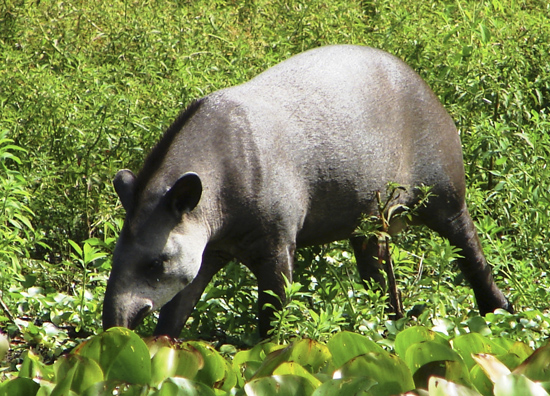Anta: (97, 39, 519, 340)
